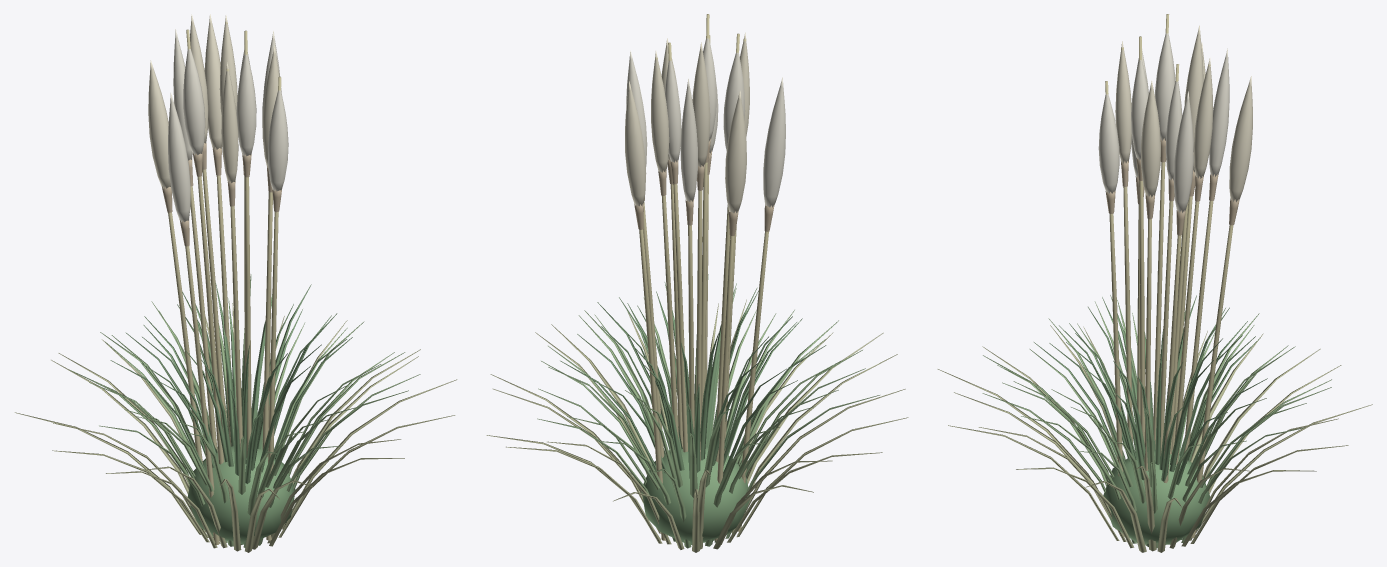
The model's file is pampas_cortadera_8.glb.
3 renders of one model, left to right at view 1: azimuth 30°, elevation 25°; view 2: azimuth 150°, elevation 25°; view 3: azimuth 270°, elevation 25°, orthographic. The views are drawn at different scales.
Parts seen in each view (by area): view 1: CortStalks, CortBladeDeep, CortBladeMid, CortPlumeSilk, CortBladeDry, CortPlumeGold, CortSheaths; view 2: CortStalks, CortBladeDeep, CortBladeMid, CortBladeDry, CortPlumeGold, CortPlumeSilk, CortSheaths; view 3: CortStalks, CortBladeDeep, CortBladeMid, CortPlumeSilk, CortBladeDry, CortPlumeGold, CortSheaths.
Boxes of the visible parts, x1,y1,x2,y2 form: CortStalks: [168, 22, 281, 544]; CortBladeDeep: [110, 274, 352, 544]; CortBladeMid: [69, 294, 420, 547]; CortPlumeSilk: [168, 29, 288, 222]; CortBladeDry: [14, 303, 457, 552]; CortPlumeGold: [148, 14, 281, 188]; CortSheaths: [162, 143, 282, 246]; CortStalks: [639, 14, 768, 541]; CortBladeDeep: [560, 274, 826, 544]; CortBladeMid: [537, 288, 879, 548]; CortBladeDry: [486, 299, 908, 552]; CortPlumeGold: [625, 32, 749, 213]; CortPlumeSilk: [626, 38, 785, 207]; CortSheaths: [634, 138, 774, 235]; CortStalks: [1105, 14, 1233, 537]; CortBladeDeep: [1034, 295, 1267, 544]; CortBladeMid: [982, 300, 1331, 547]; CortPlumeSilk: [1098, 33, 1229, 212]; CortBladeDry: [937, 325, 1372, 552]; CortPlumeGold: [1115, 25, 1252, 202]; CortSheaths: [1105, 138, 1239, 235].
Size of the model in its own units: 1.77 by 2.29 by 1.81.
